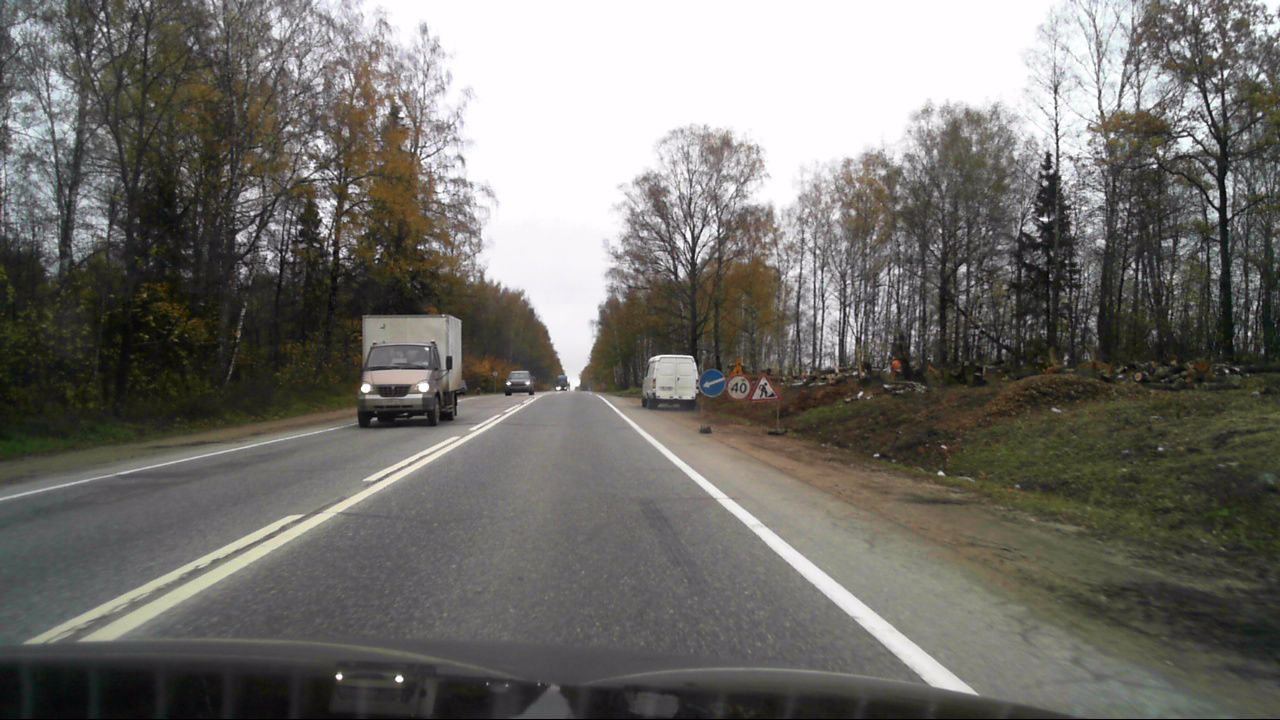speed_warning_40: (726, 375, 751, 400)
